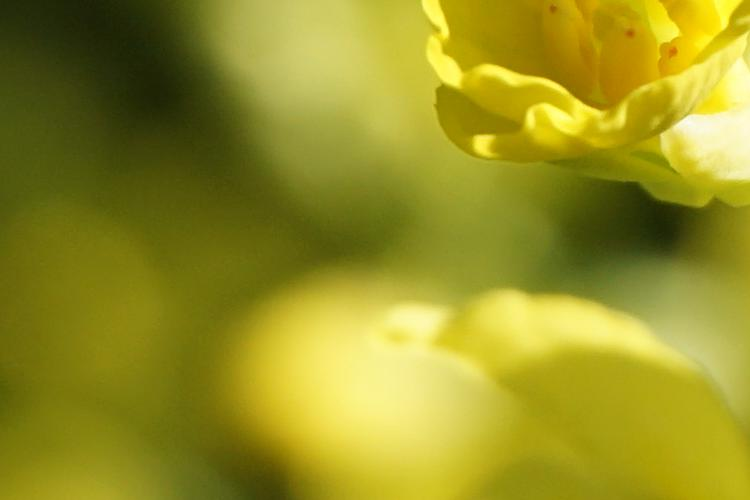yellow: (427, 9, 737, 212)
